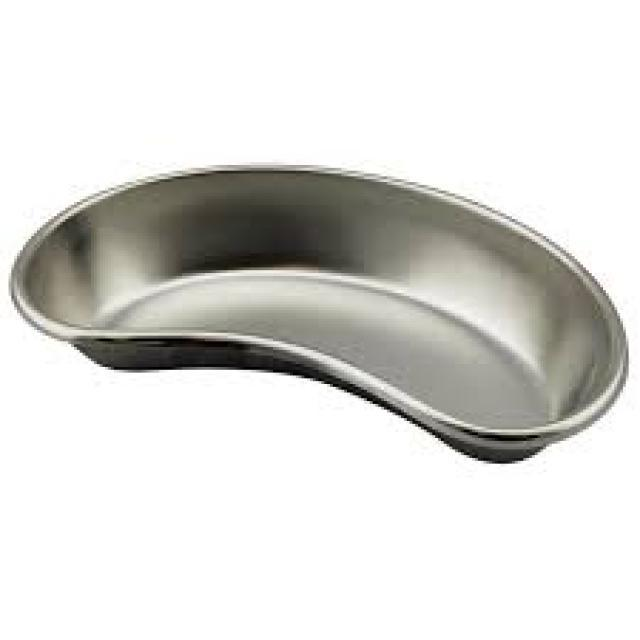Kidney Tray: (9, 154, 628, 464)
